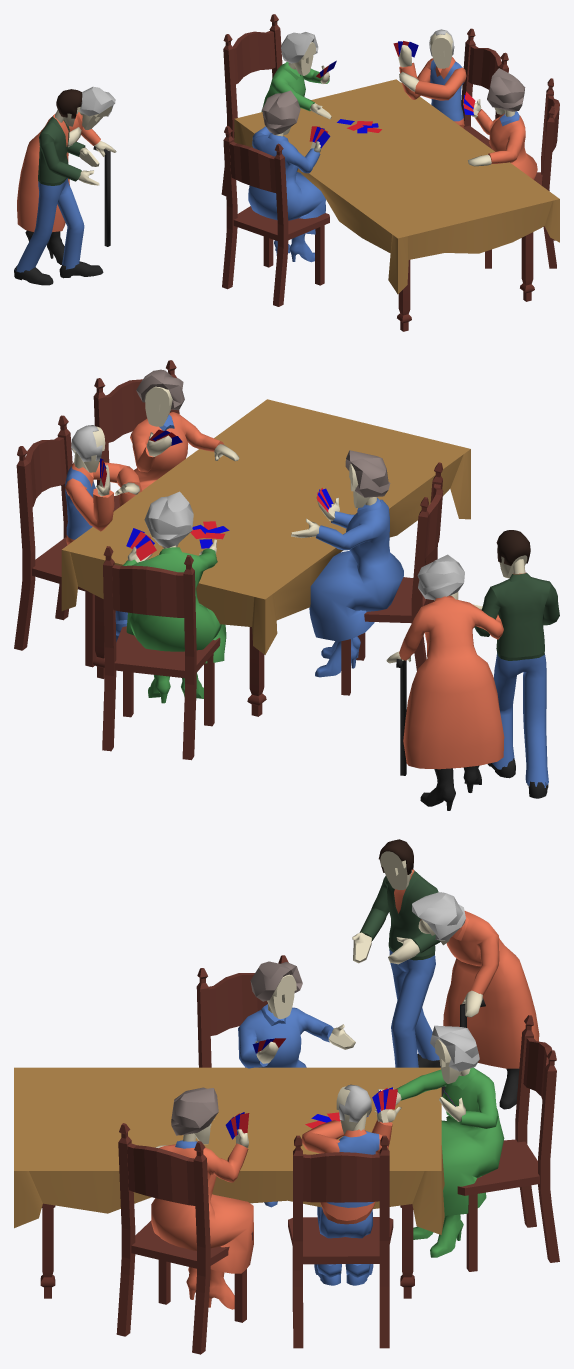
File: mesh_AmchaHouseCrowd.fbx
The picture shows the model from 3 angles, top to bottom: view 1: azimuth 30°, elevation 25°; view 2: azimuth 150°, elevation 25°; view 3: azimuth 270°, elevation 25°; orthographic projection. The views are drawn at different scales.
Parts seen in each view (by area): view 1: Crown; view 2: Crown; view 3: Crown.
Part boxes in pixels (left/top/right/bottom): Crown: left=14, top=14, right=559, bottom=331; Crown: left=14, top=360, right=559, bottom=810; Crown: left=14, top=839, right=559, bottom=1354.
Bounding box in the file's own units: 243 × 98.81 × 194.
